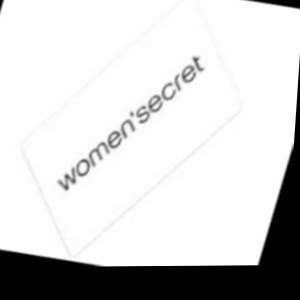women_secret: (72, 31, 300, 93)
